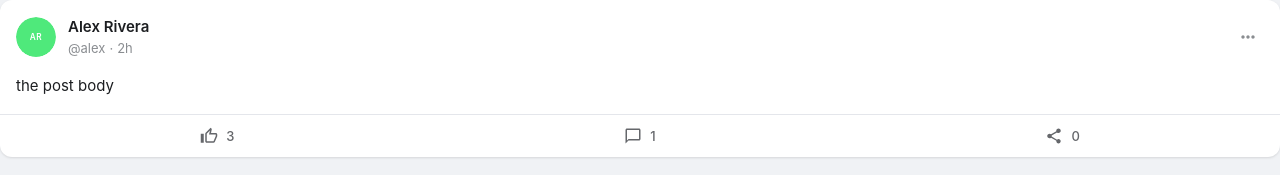
PostCard › the owner sees Edit / Delete in the menu
Click the button named "more options" at point(1248, 37), box [1232,21,1264,53]
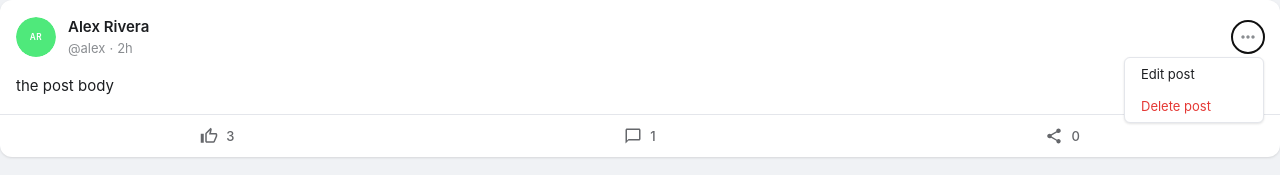
Expected: the button "Delete post" is shown, [1125,90,1263,122]
Expected: the button "Edit post" is shown, [1125,58,1263,90]
